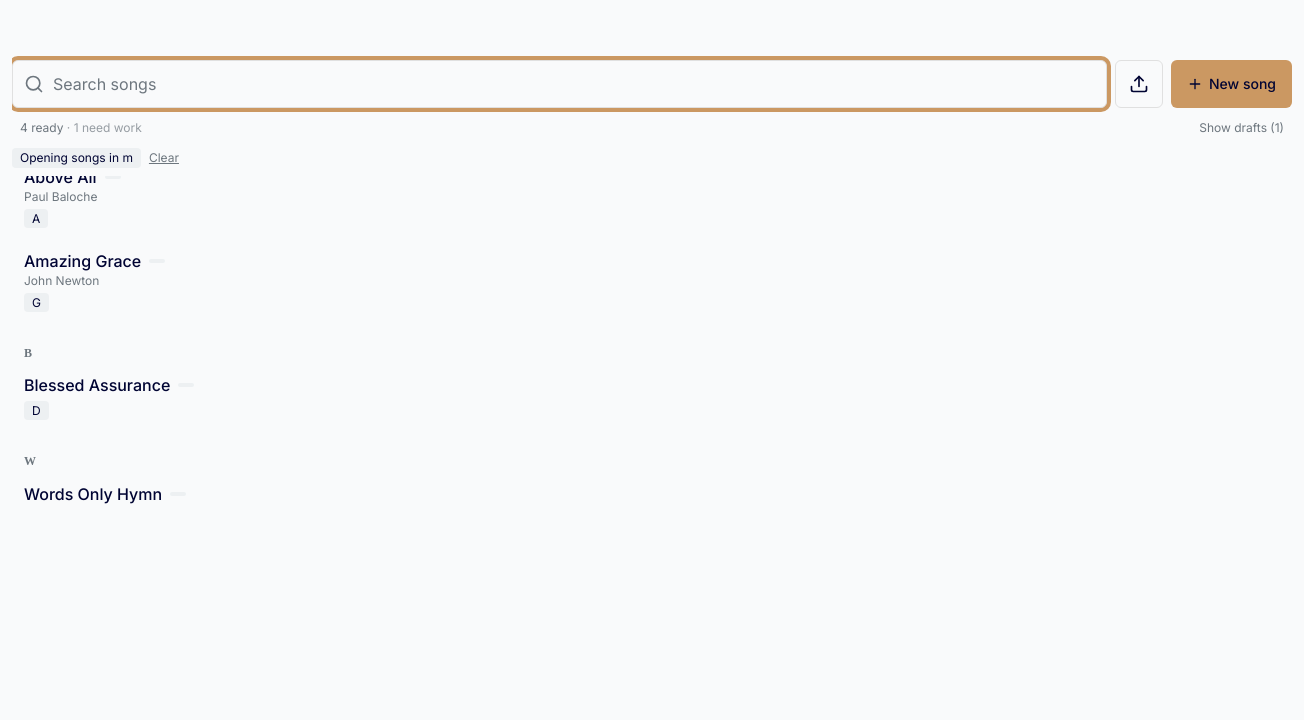
Test: SongListPage › reveals drafts on request, with a badge and a count
Expected: the link "Amazing Grace John Newton G" is shown, [24,250,165,312]
Click the button "Show drafts (1)": [1242, 128] box [1191,116,1292,140]
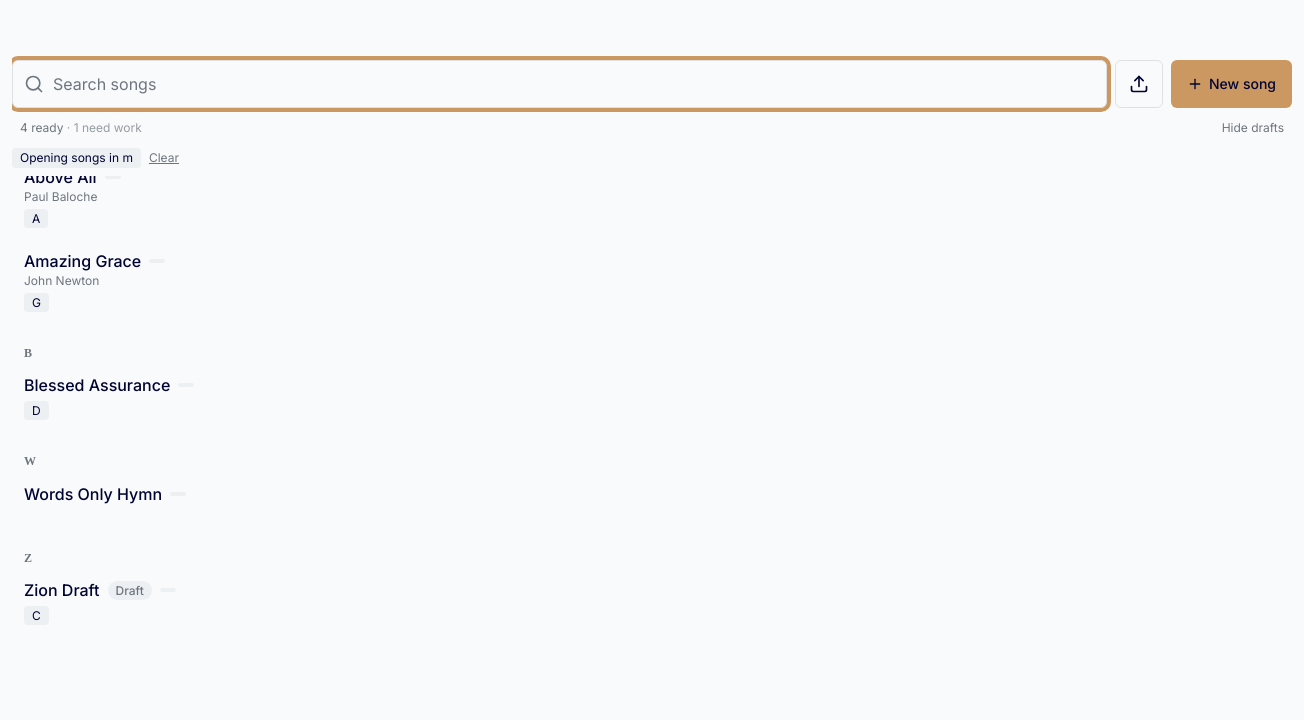
Expected: the link "Zion Draft Draft C" is shown, [24,580,176,625]
Click the button "Hide drafts": [1253, 128] box [1214,116,1292,140]
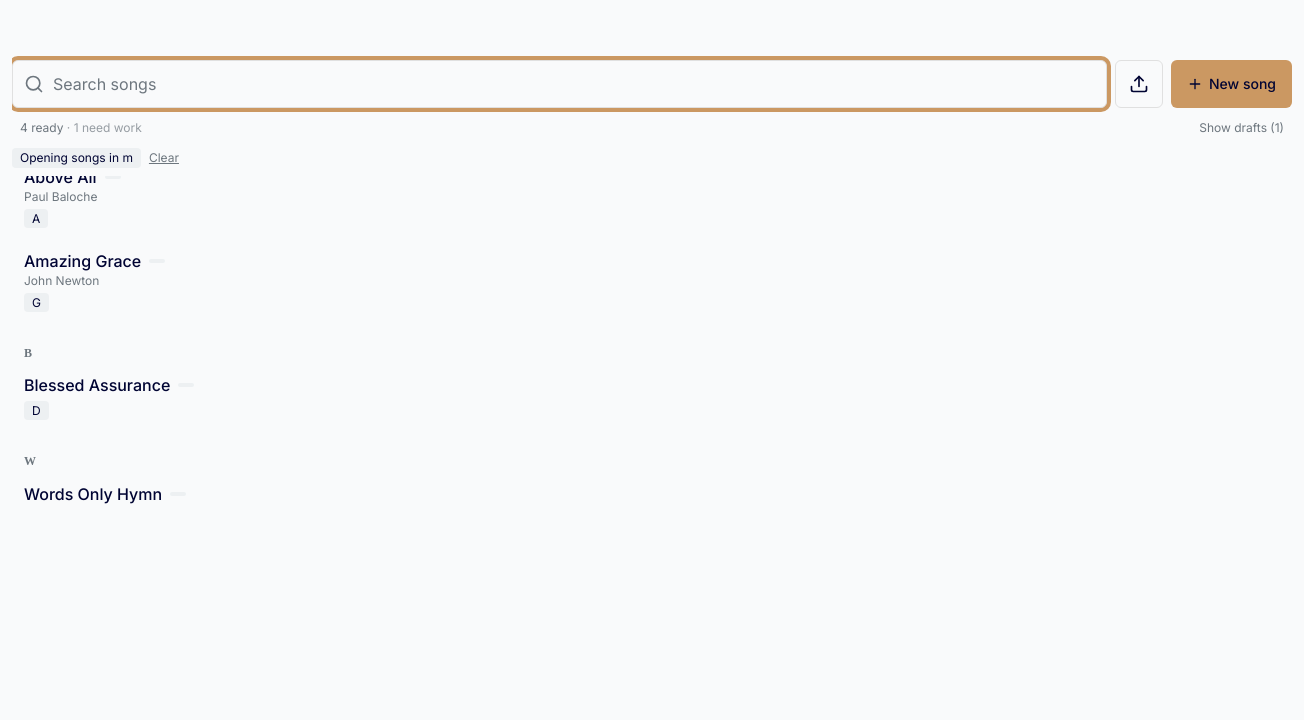
Expected: the link "Zion Draft" is gone
